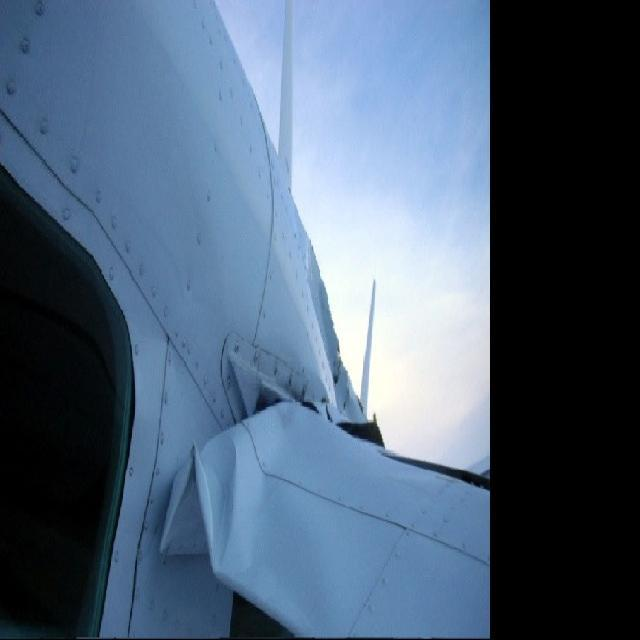dent: (154, 437, 252, 581)
